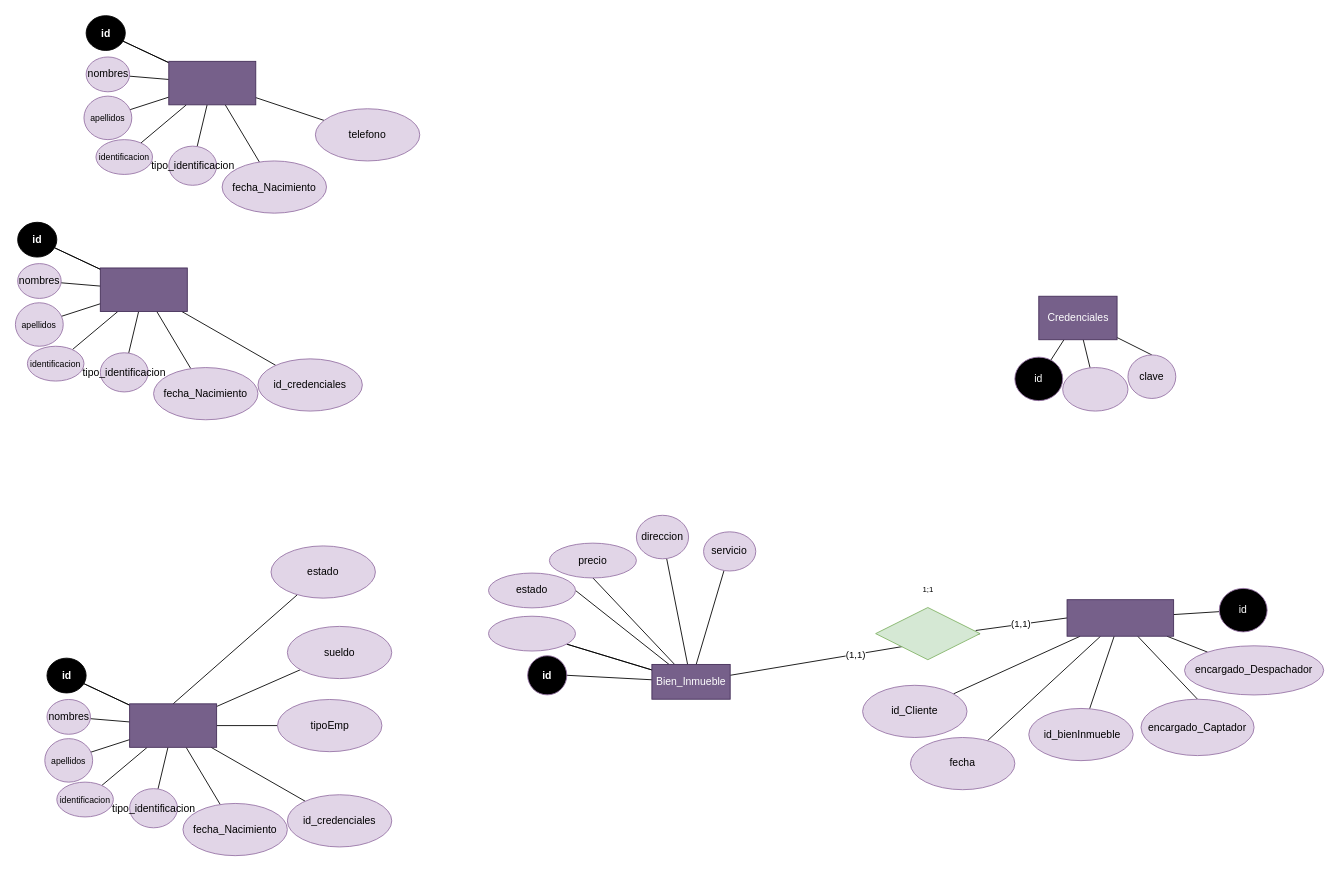
The diagram is 1339 pixels wide and 871 high, and some of its shapes have lost their labels. Each missing label, with the centre of its shape:
"CEO" belongs at (x=143, y=289).
"Cliente" belongs at (x=212, y=82).
"descripcion" belongs at (x=532, y=633).
"Empleado" belongs at (x=173, y=725).
"Tiene" belongs at (x=927, y=633).
"usuario" belongs at (x=1095, y=389).
"Venta" belongs at (x=1120, y=617).
